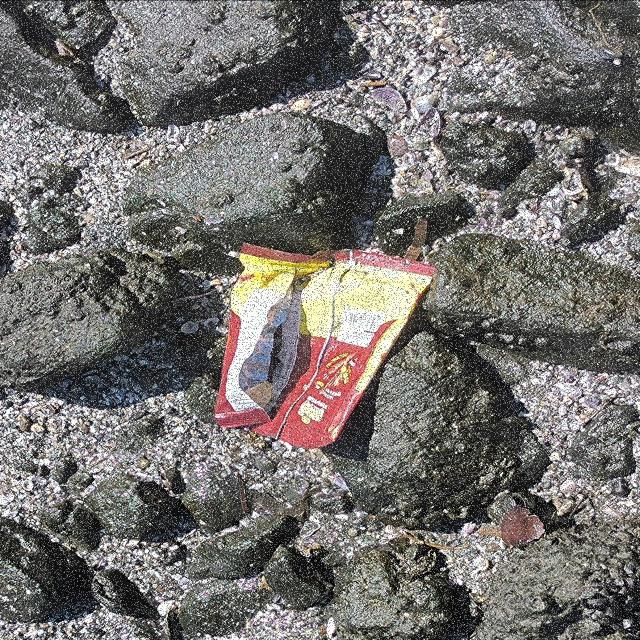plastic_waste: (214, 242, 439, 451)
